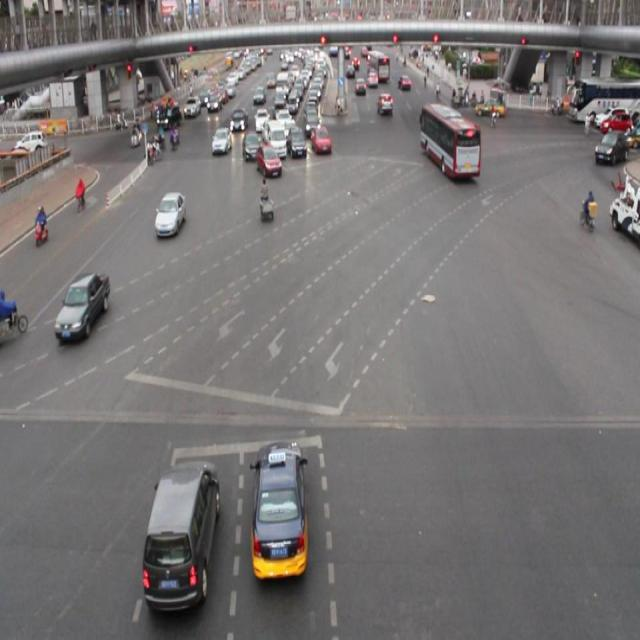car: (250, 438, 310, 582), (56, 272, 109, 340), (155, 191, 186, 237), (256, 143, 281, 177), (286, 125, 307, 164), (311, 123, 331, 158), (243, 129, 261, 161), (212, 126, 231, 156), (230, 107, 248, 130)
truck: (142, 454, 222, 610), (262, 119, 287, 161)
van: (421, 105, 479, 178)
